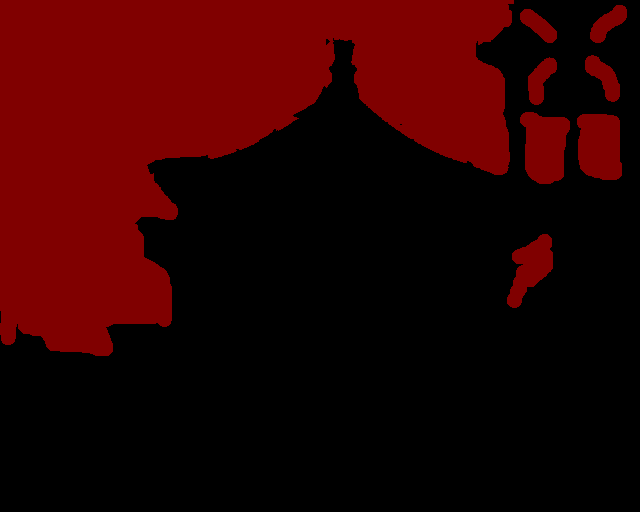Sky: (1, 1, 626, 355)
